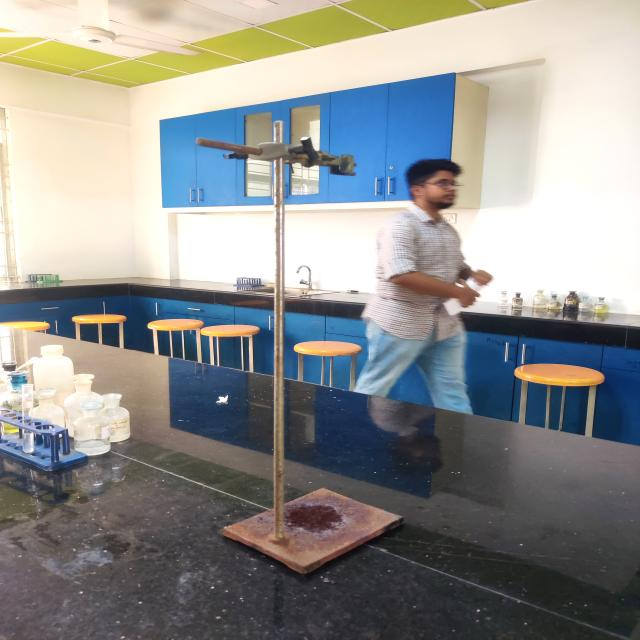Burette_Stands: (167, 115, 420, 592)
